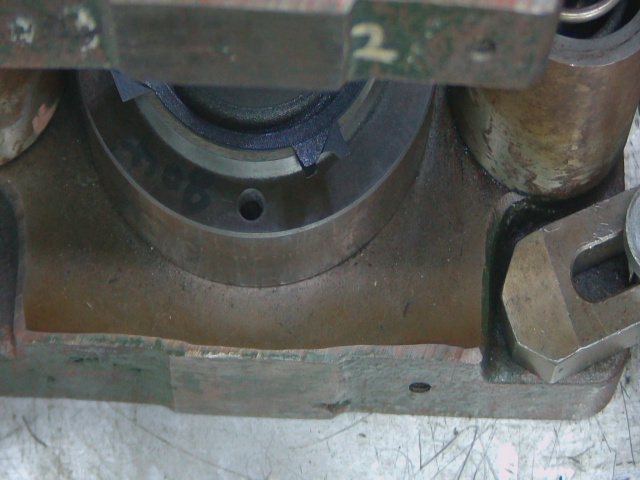NG: (291, 123, 359, 186)
